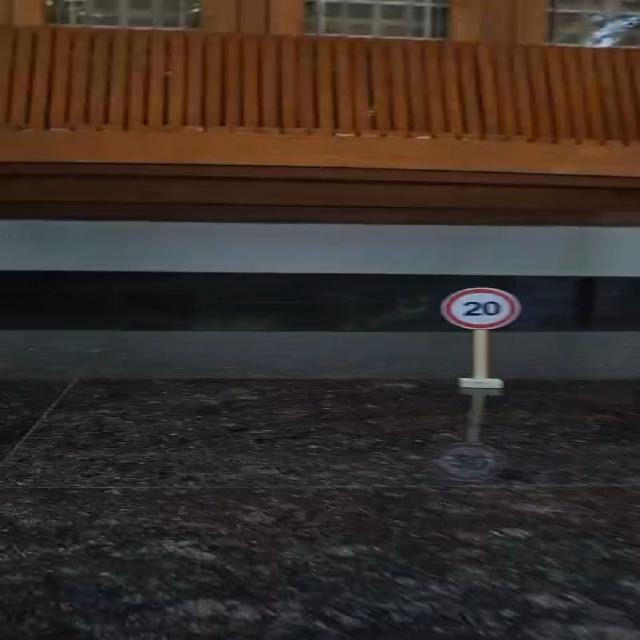Speed20: (432, 283, 524, 334)
